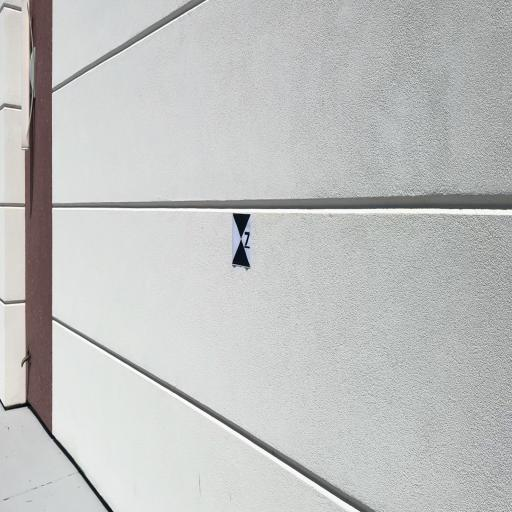target7: (232, 212, 252, 267)
